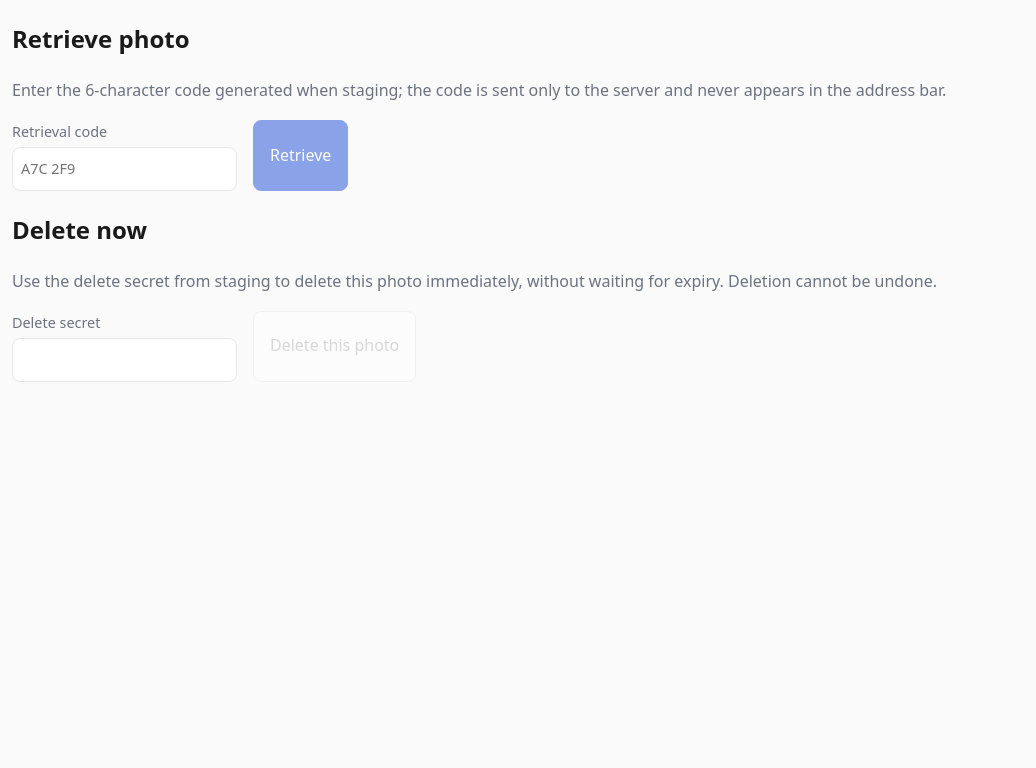
Test: RetrievePage › shows the photo summary returned by resolve
This screenshot has width=1036, height=768.
Step 1. Type "A7C2F9" into the field labelled "Retrieval code" → (124, 169), box [12,147,237,191]
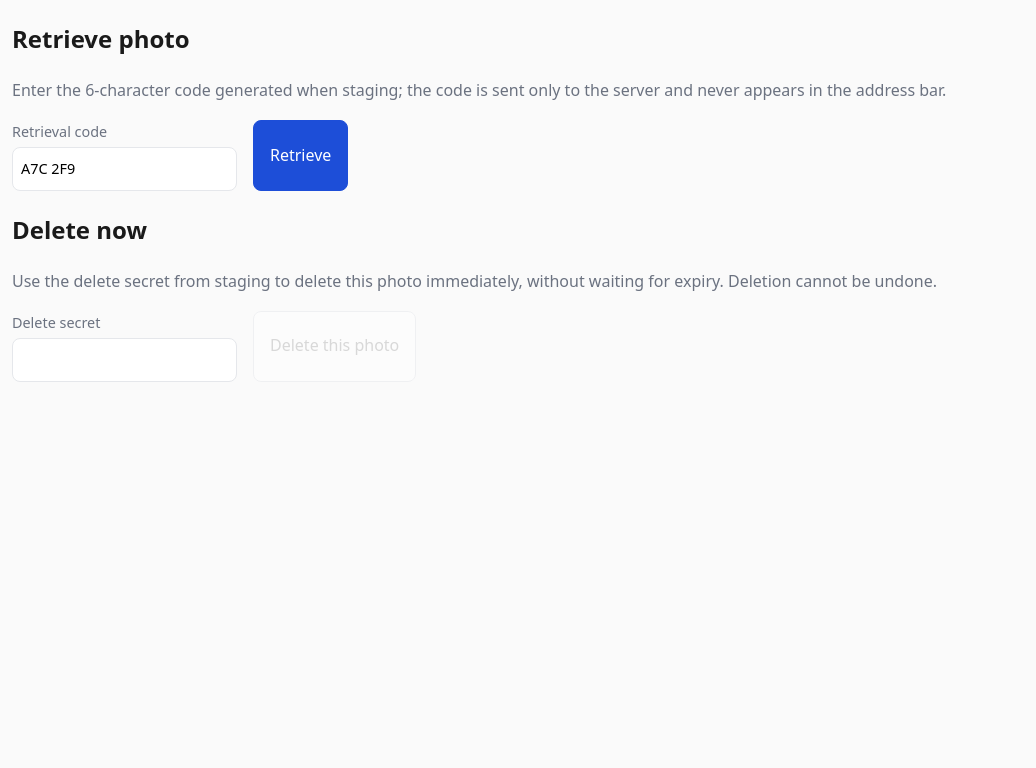
Step 2. Click the button "Retrieve" → (301, 155), box [253,120,348,191]
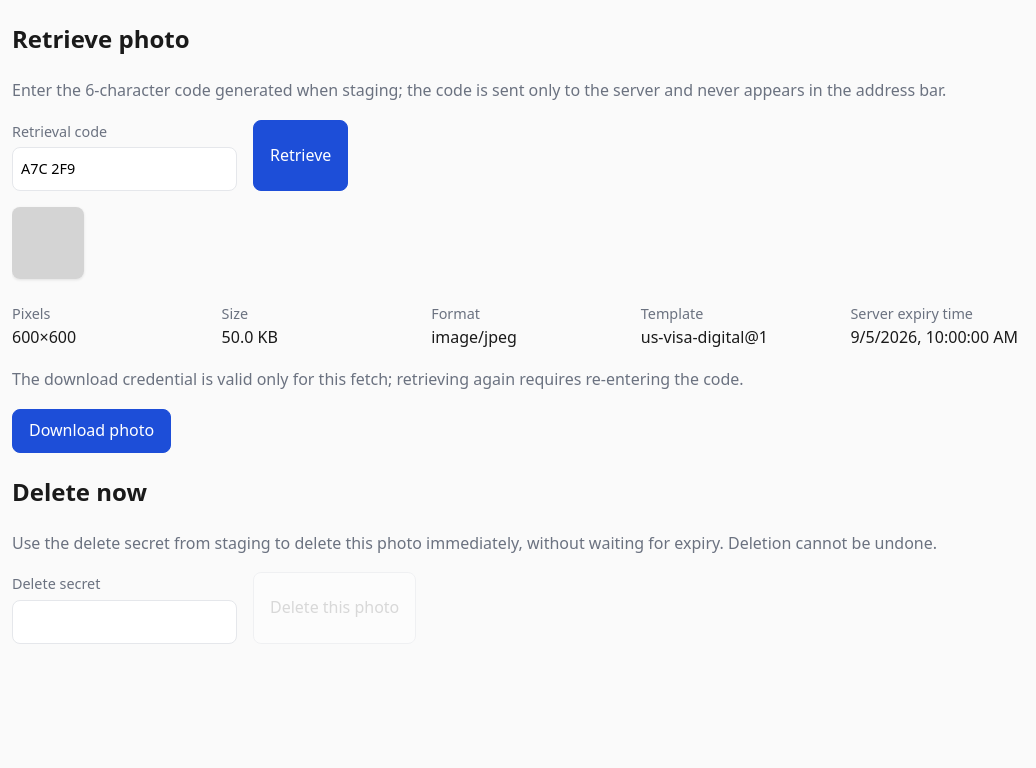
Result: the text "600×600" is shown at [12,326,76,348]
Result: the text "50.0 KB" is shown at [222,326,278,348]
Result: the text "us-visa-digital@1" is shown at [641,326,768,348]
